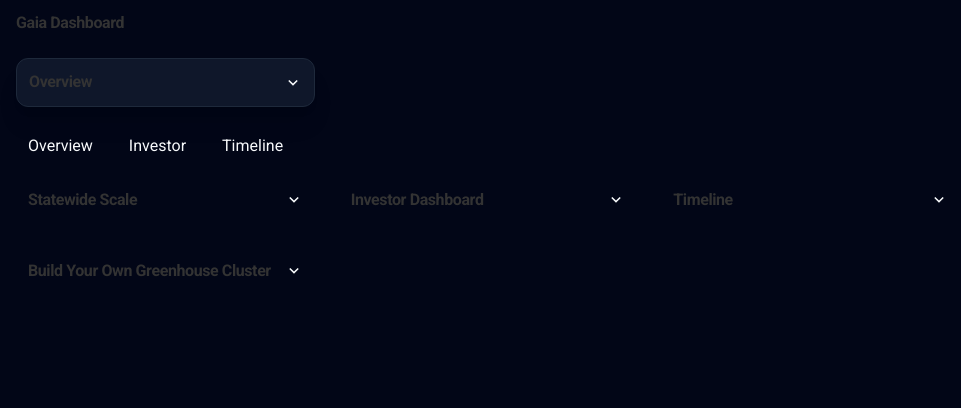
Dashboard page — Overview section content (PR fix) › shows static "900,000 Students Fed" text after expanding Overview card
The image size is (961, 408).
Click the 1st button "Expand".
click(293, 83)  # box [284, 74, 302, 92]
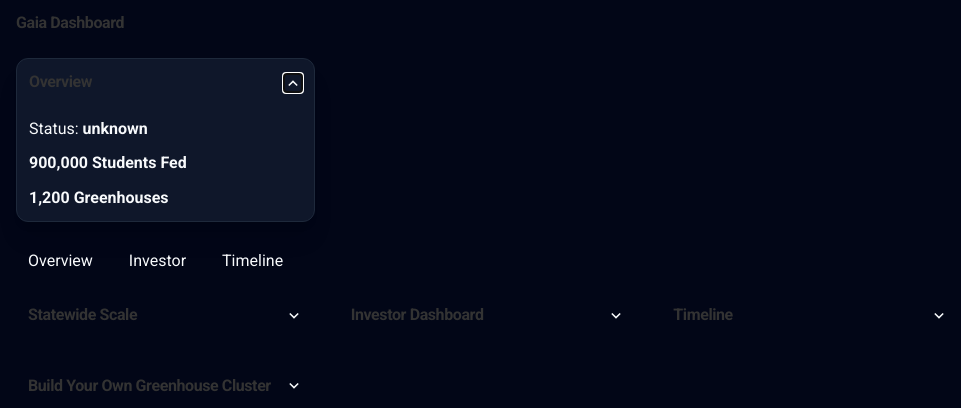
expect the text "900,000 Students Fed" is shown: met, box [29, 153, 187, 172]
